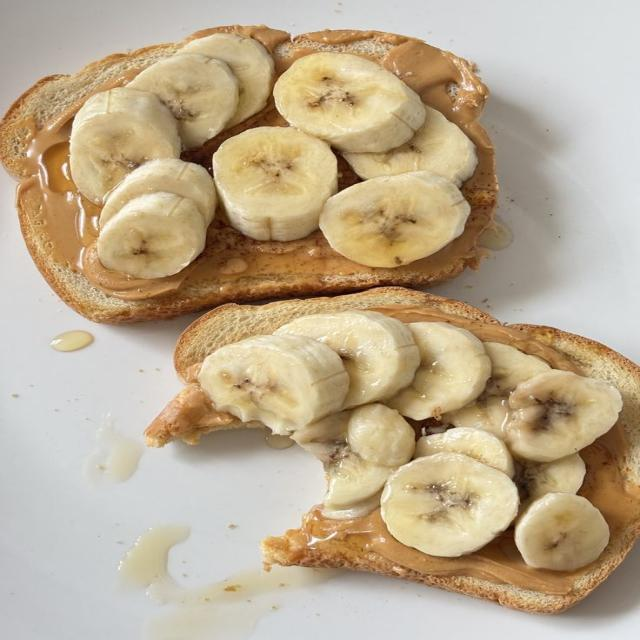sliced_bread: (174, 287, 639, 613), (0, 25, 497, 323)
